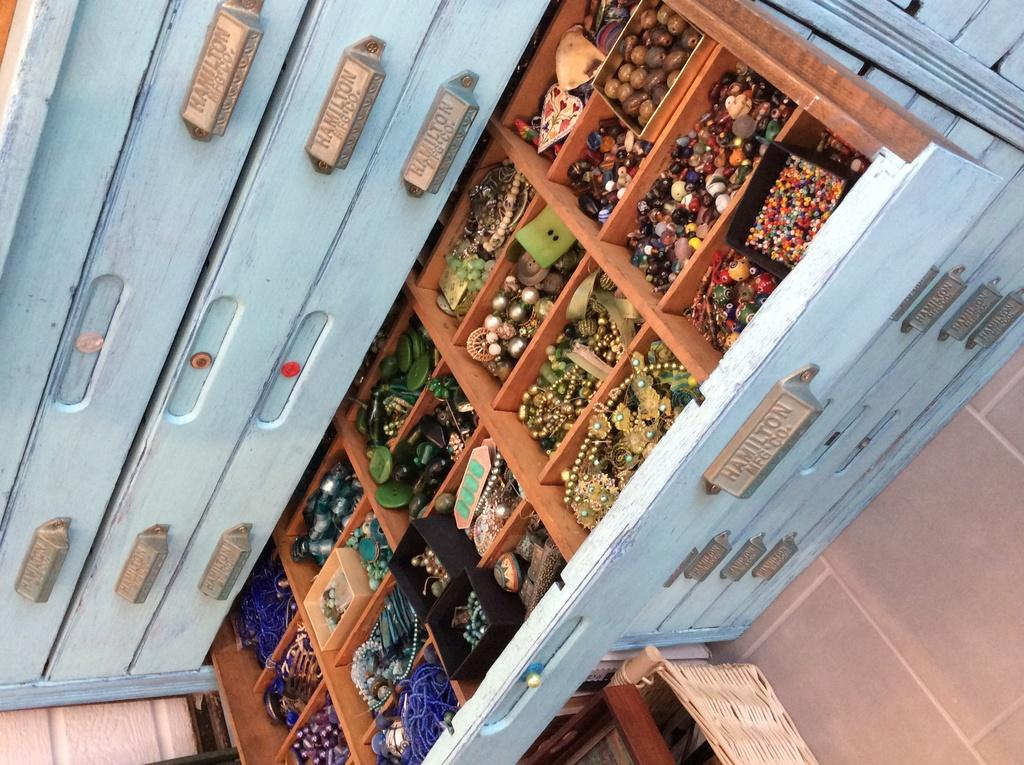handle: (312, 45, 382, 166), (196, 12, 254, 126), (410, 84, 464, 181), (738, 360, 766, 493), (23, 518, 65, 600), (952, 268, 991, 344), (988, 286, 1022, 364), (210, 530, 246, 603), (126, 532, 160, 602), (924, 262, 954, 340), (692, 528, 734, 576), (759, 528, 788, 582), (734, 534, 762, 582)
